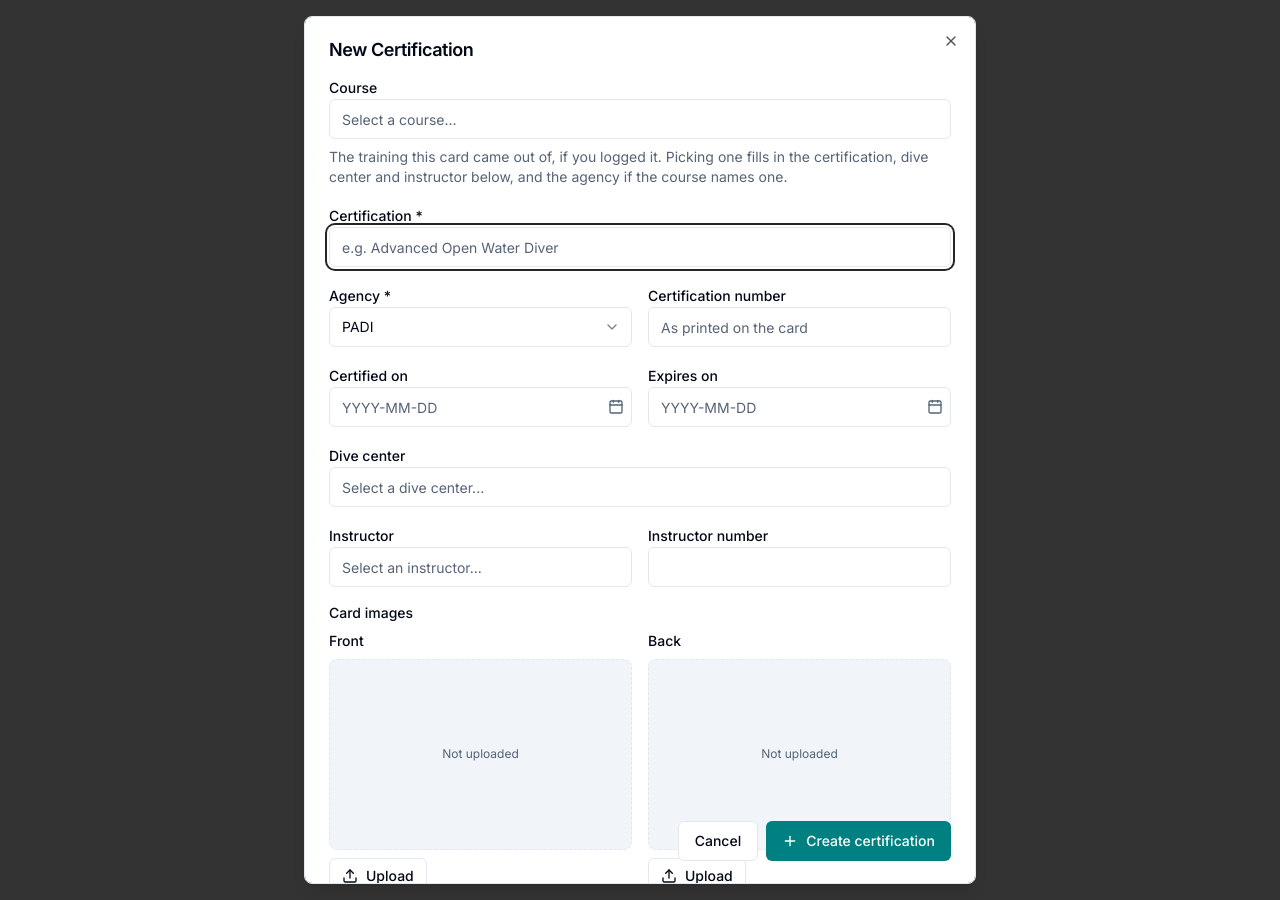
Test: picking a course fills the card's own fields in › copies the level, dive center, instructor and agency across
Click the dropdown labelled "Course": [640, 119] box [329, 99, 951, 139]
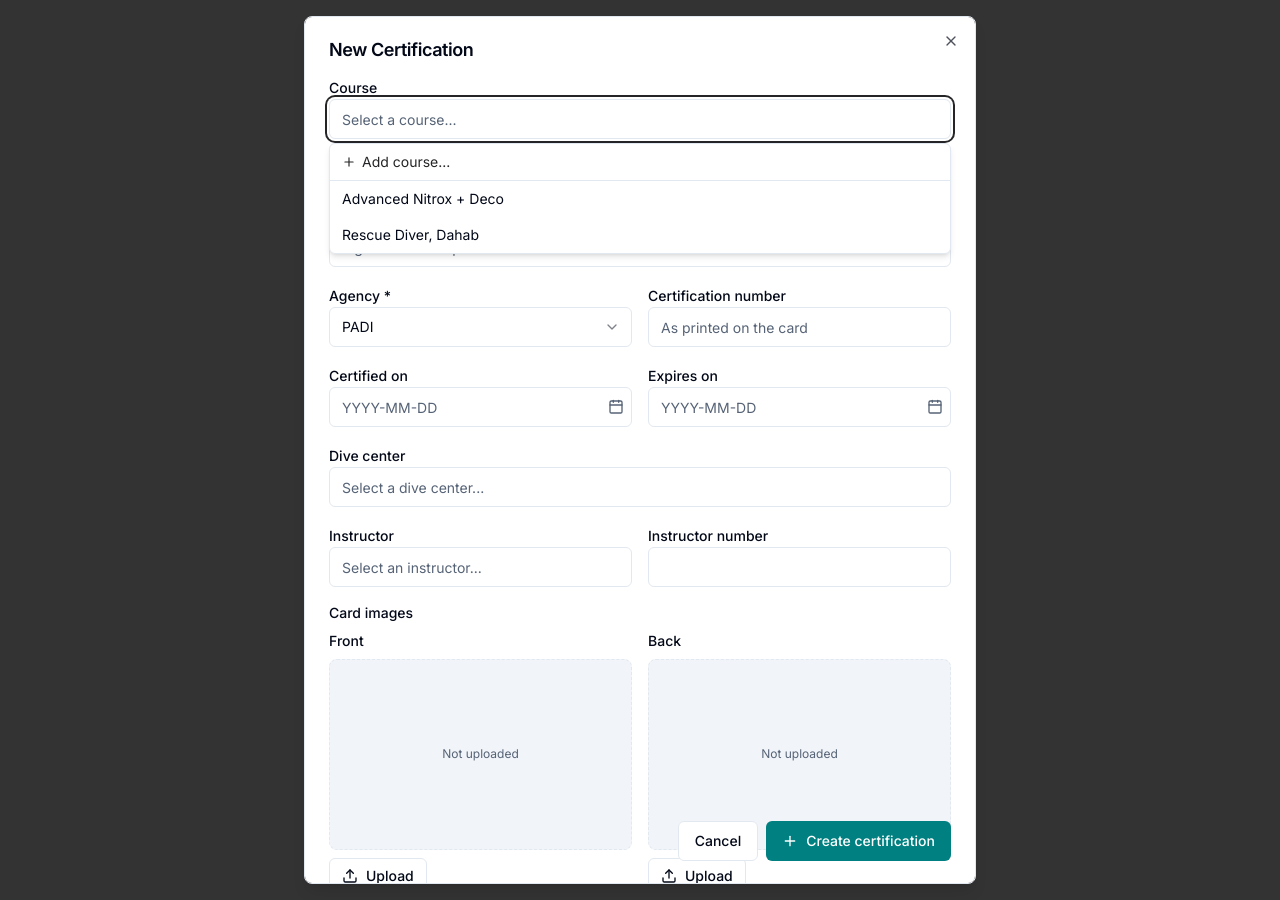
Click the option "Advanced Nitrox + Deco": [423, 198] box [330, 181, 950, 217]
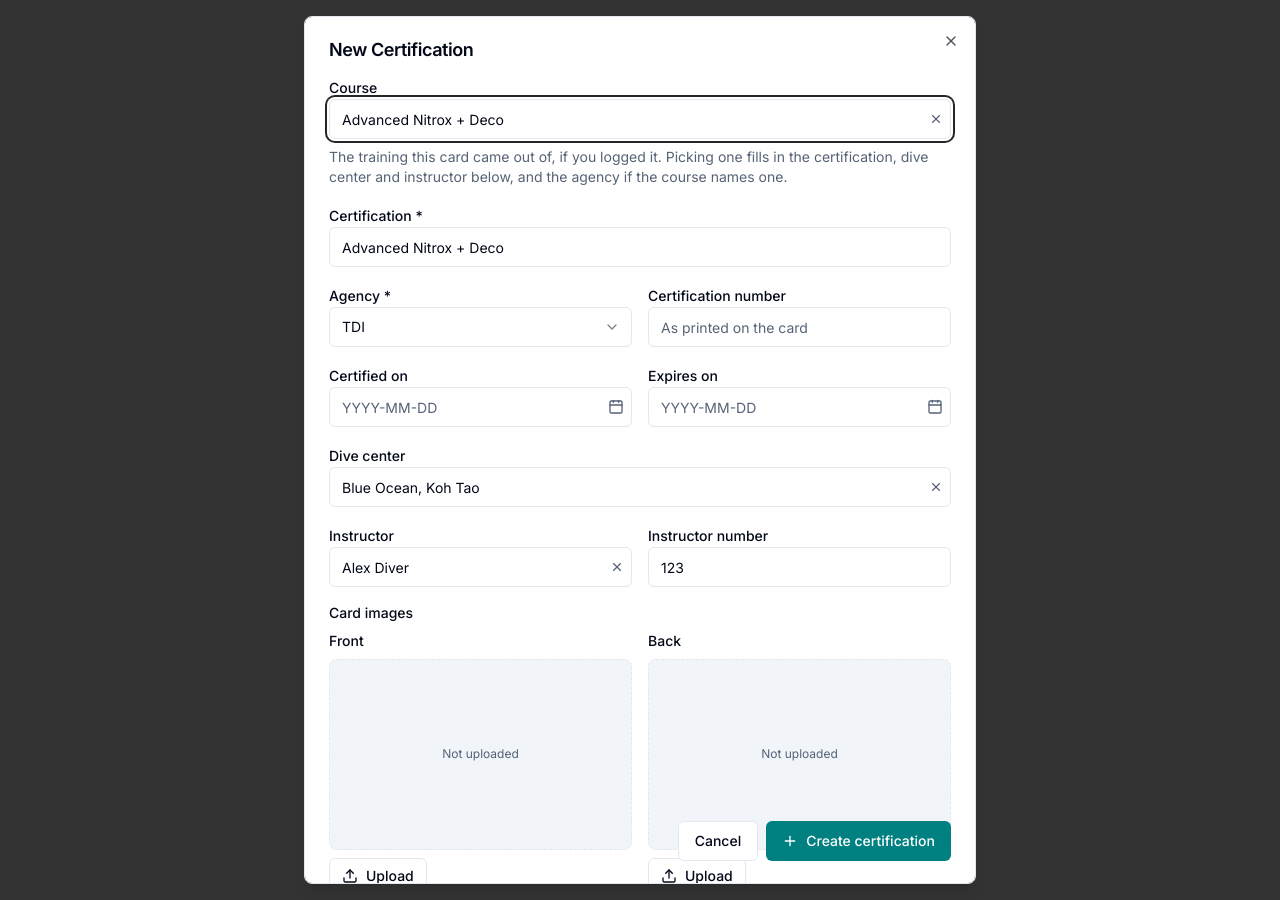
Expected: the dropdown labelled "Dive center" holds "Blue Ocean, Koh Tao", [329, 467, 951, 507]
Expected: the field labelled "Certification *" holds "Advanced Nitrox + Deco", [329, 227, 951, 267]
Expected: the dropdown labelled "Instructor" holds "Alex Diver", [329, 547, 632, 587]
